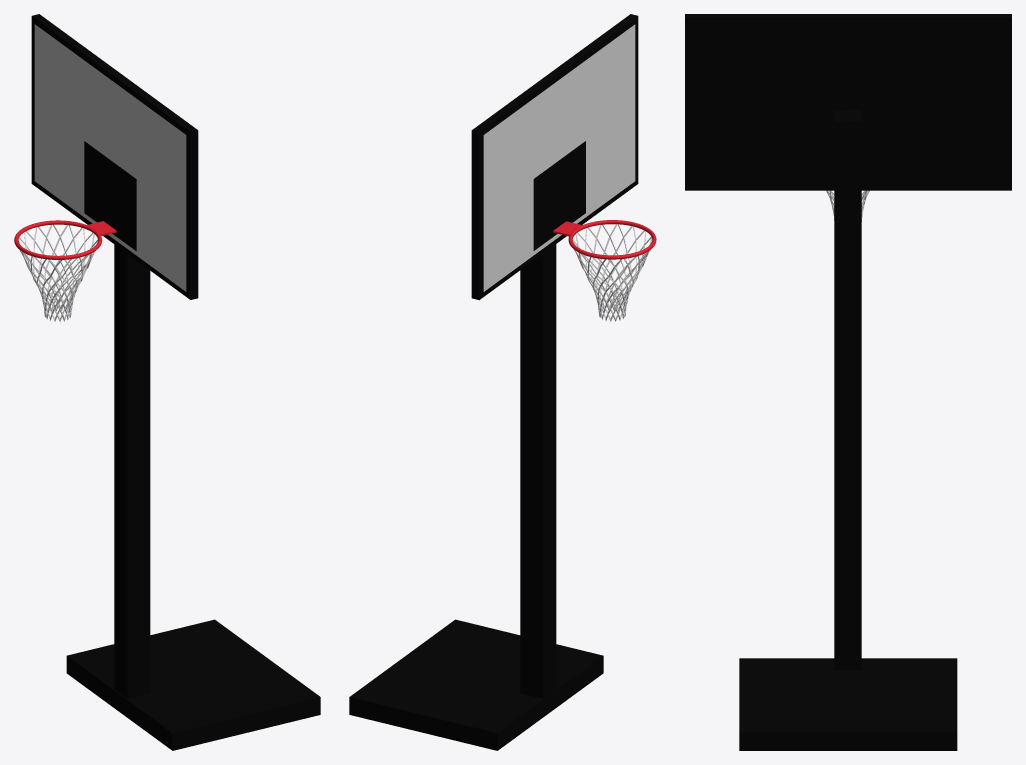
The model's file is Basketballkorb.fbx.
The picture shows the model from 3 angles, left to right: view 1: azimuth 30°, elevation 25°; view 2: azimuth 150°, elevation 25°; view 3: azimuth 270°, elevation 25°; orthographic projection. The views are drawn at different scales.
Visible parts, largest first — view 1: Backboard, Cube.001, Cube.002, Netz, Ring; view 2: Backboard, Cube.001, Cube.002, Netz, Ring; view 3: Backboard, Cube.001, Cube.002.
Boxes of the visible parts, x1,y1,x2,y2 form: Backboard: (31, 14, 198, 299); Cube.001: (66, 619, 320, 750); Cube.002: (114, 244, 150, 698); Netz: (18, 224, 97, 321); Ring: (14, 220, 116, 259); Backboard: (471, 14, 638, 300); Cube.001: (349, 619, 603, 750); Cube.002: (520, 244, 556, 698); Netz: (572, 224, 652, 321); Ring: (553, 220, 656, 259); Backboard: (685, 14, 1011, 190); Cube.001: (739, 658, 957, 750); Cube.002: (834, 110, 861, 670).
Bounding box in the file's own units: 162 × 400 × 180.
